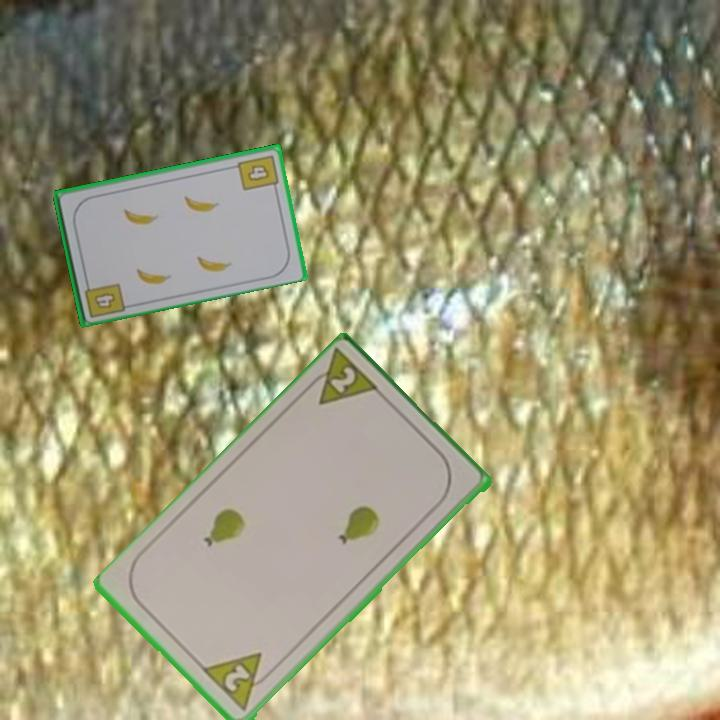2p: (300, 346, 384, 410), (200, 649, 277, 715)
4b: (81, 276, 127, 320), (234, 151, 281, 194)
